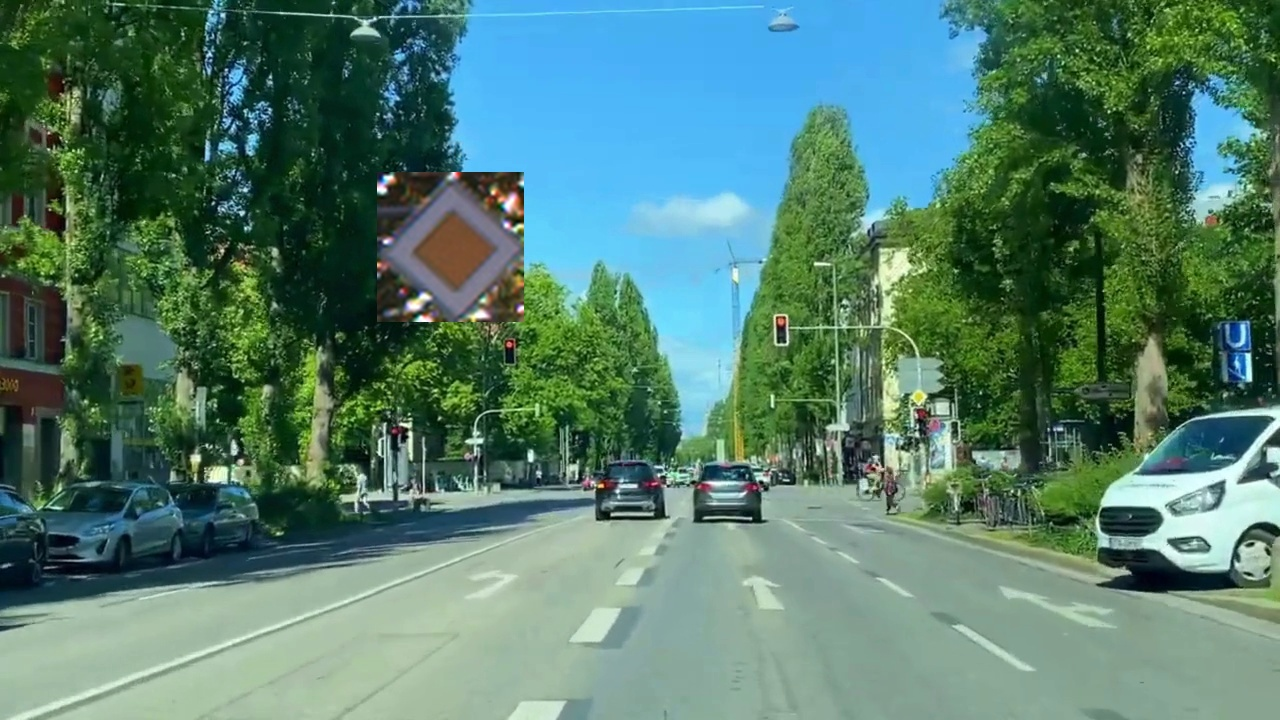Priority road: (377, 172, 524, 322)
